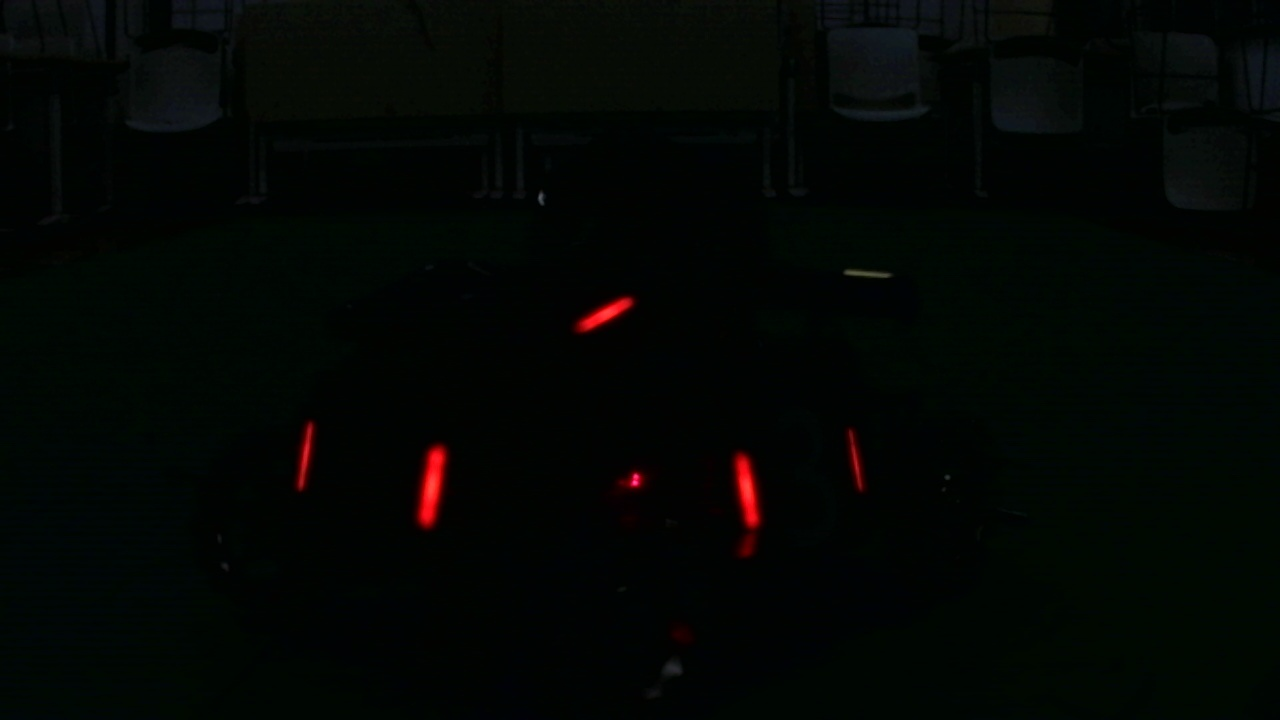lamp: (412, 434, 446, 531), (732, 435, 759, 535), (298, 420, 311, 488)
notpair1: (416, 437, 761, 535)
pair1: (293, 436, 444, 528)
